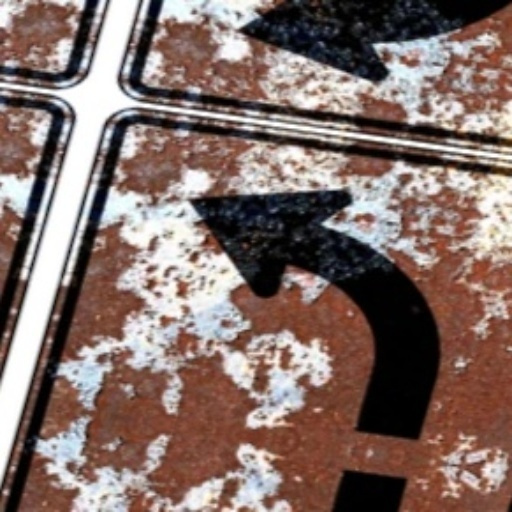Turn left: (163, 173, 437, 442)
